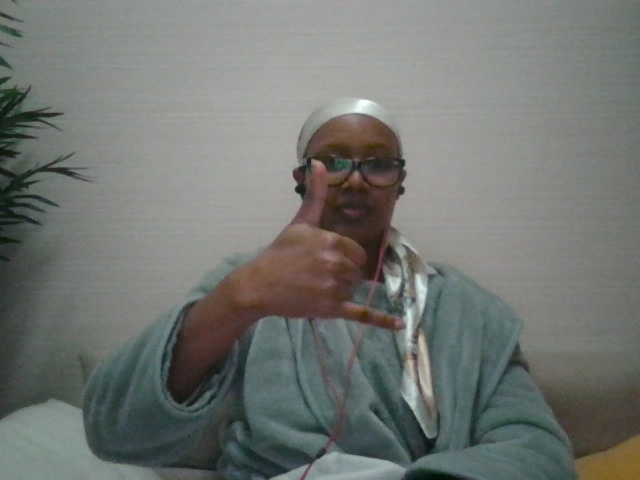callme: (224, 153, 415, 337)
